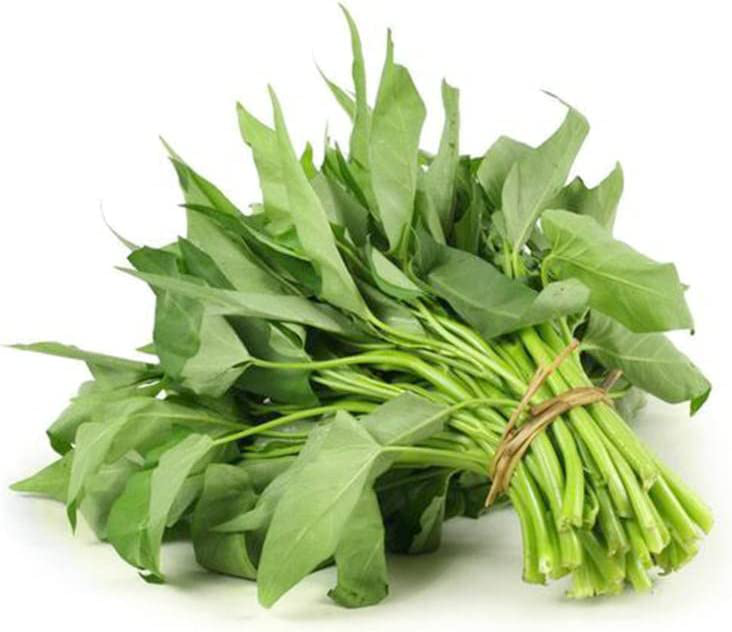Kangkung: (36, 75, 709, 610)
